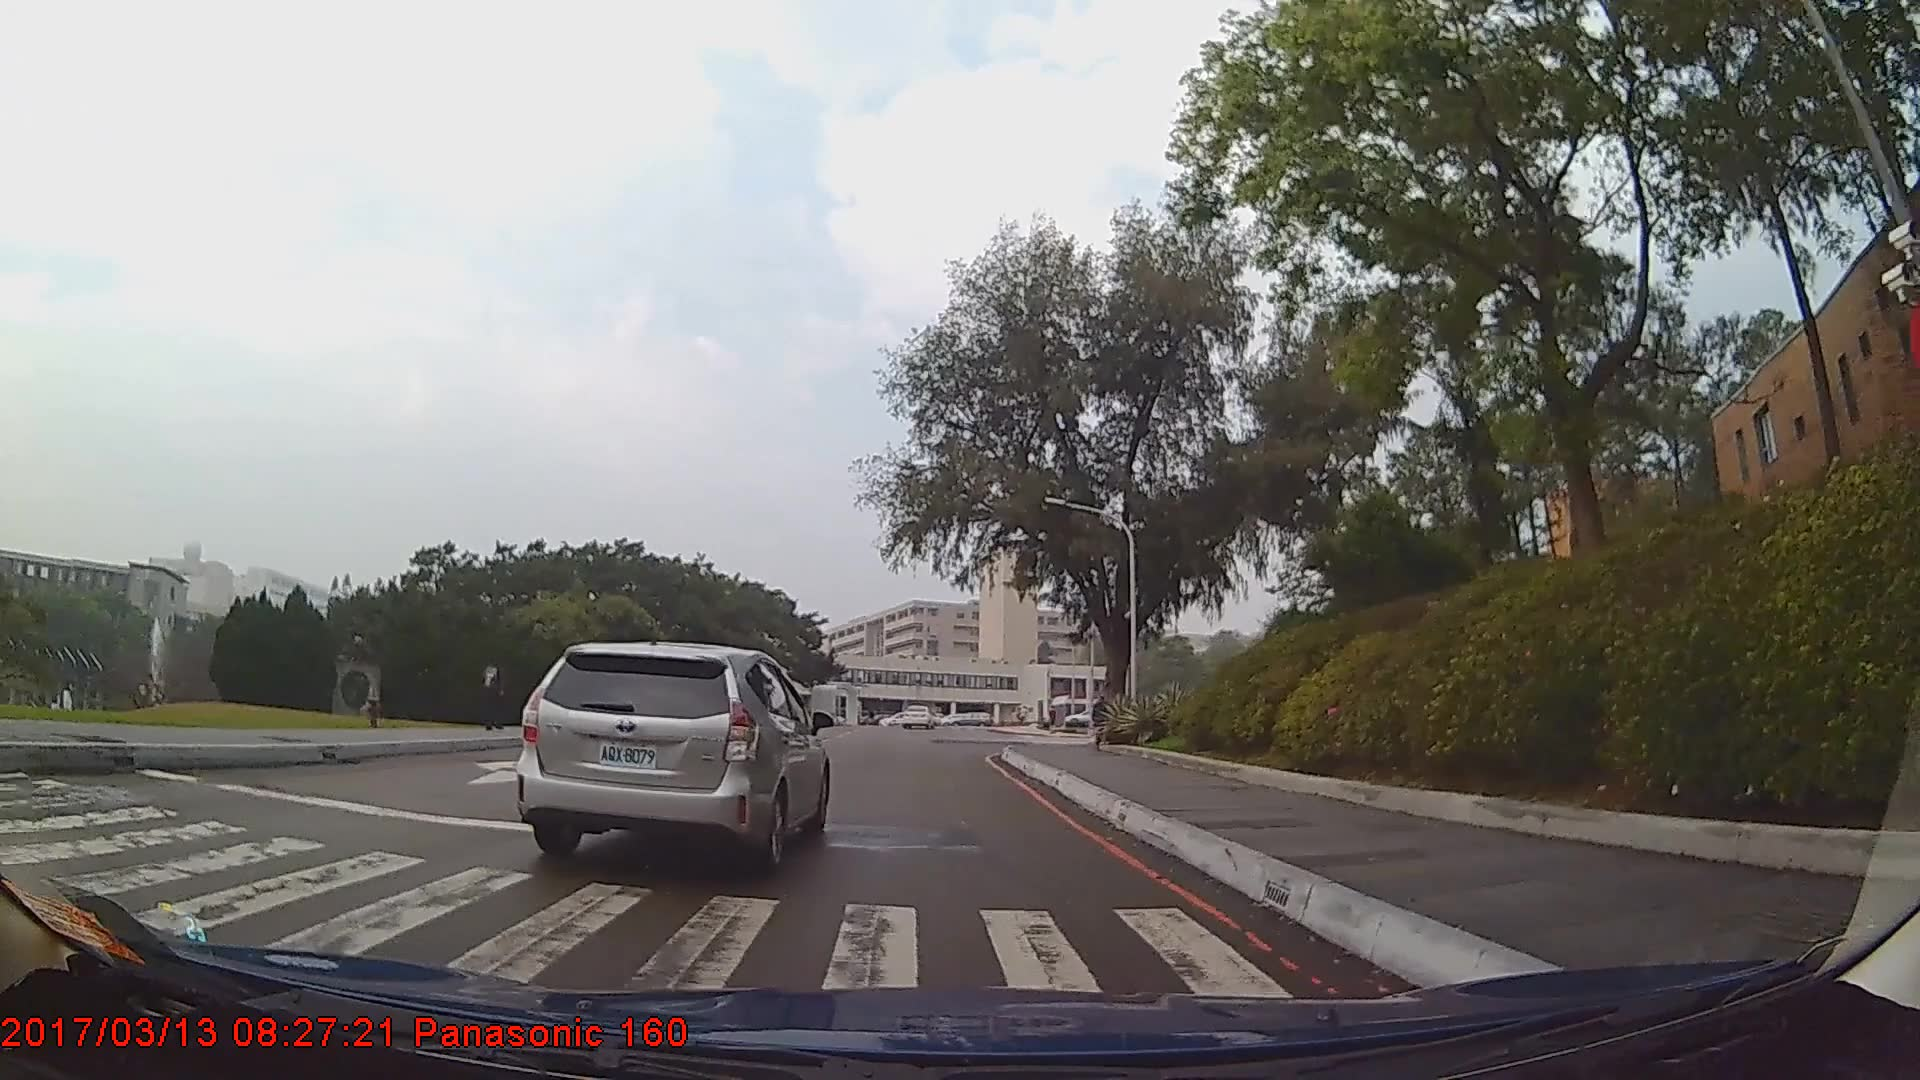pedestrian: (475, 657, 511, 735), (1089, 694, 1109, 748)
vehicle: (514, 638, 831, 877), (898, 704, 932, 731)
